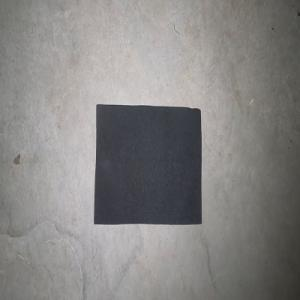PaintChip: (93, 104, 201, 224)
